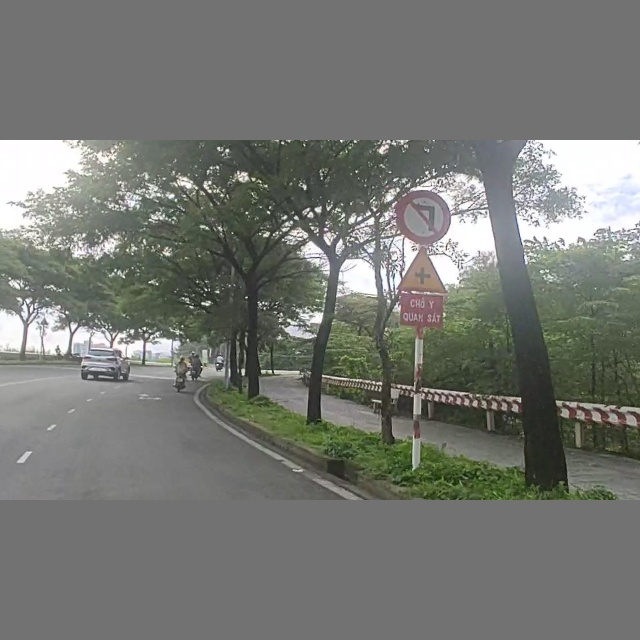P.123a: (394, 188, 454, 244)
W.205a: (397, 245, 454, 295)
